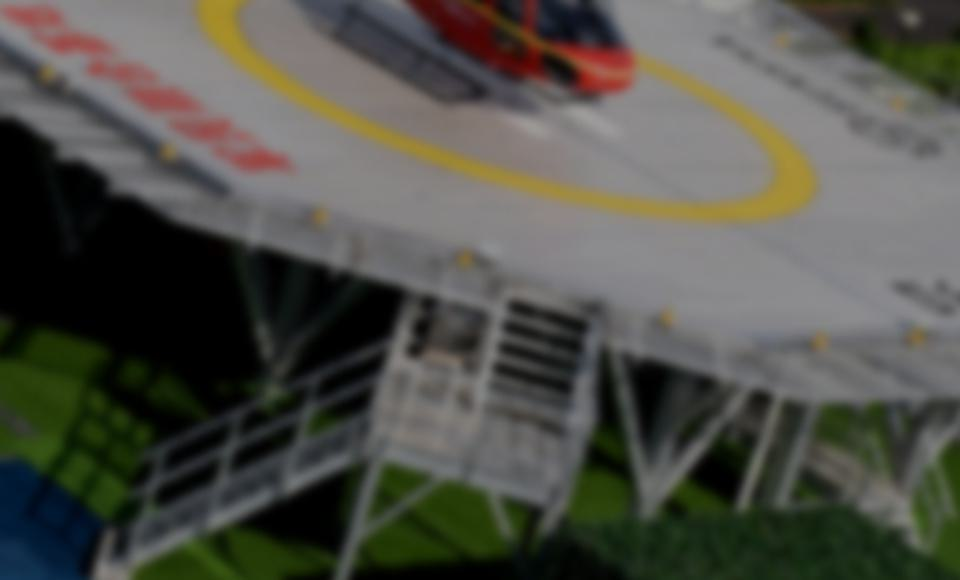Apron: (197, 2, 818, 227)
